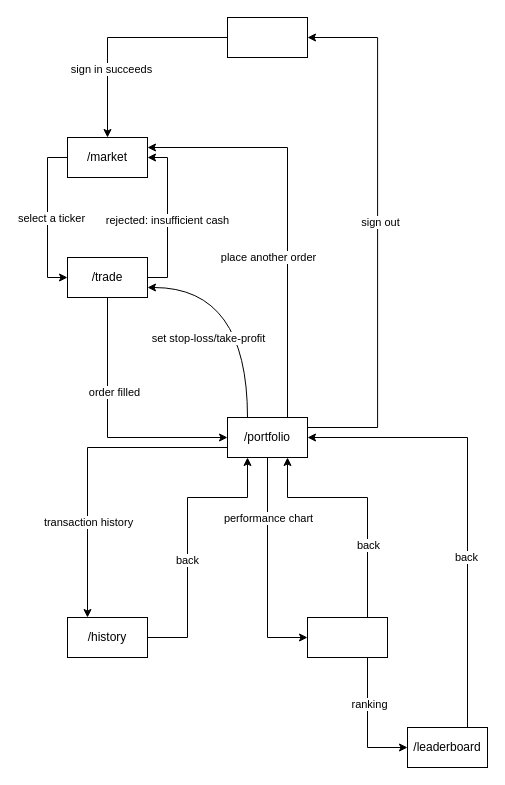
Some shapes in this 505 by 785 pixel diagram are drawn without their labels. Each missing label, with the centre of its shape:
/ (landing): the point at 267,37
/performance: the point at 347,637
